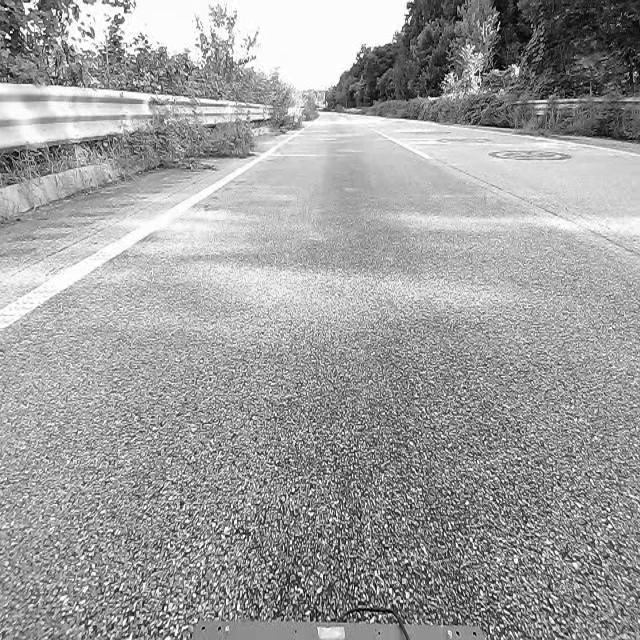Lane: (0, 130, 290, 324), (0, 140, 287, 331)
